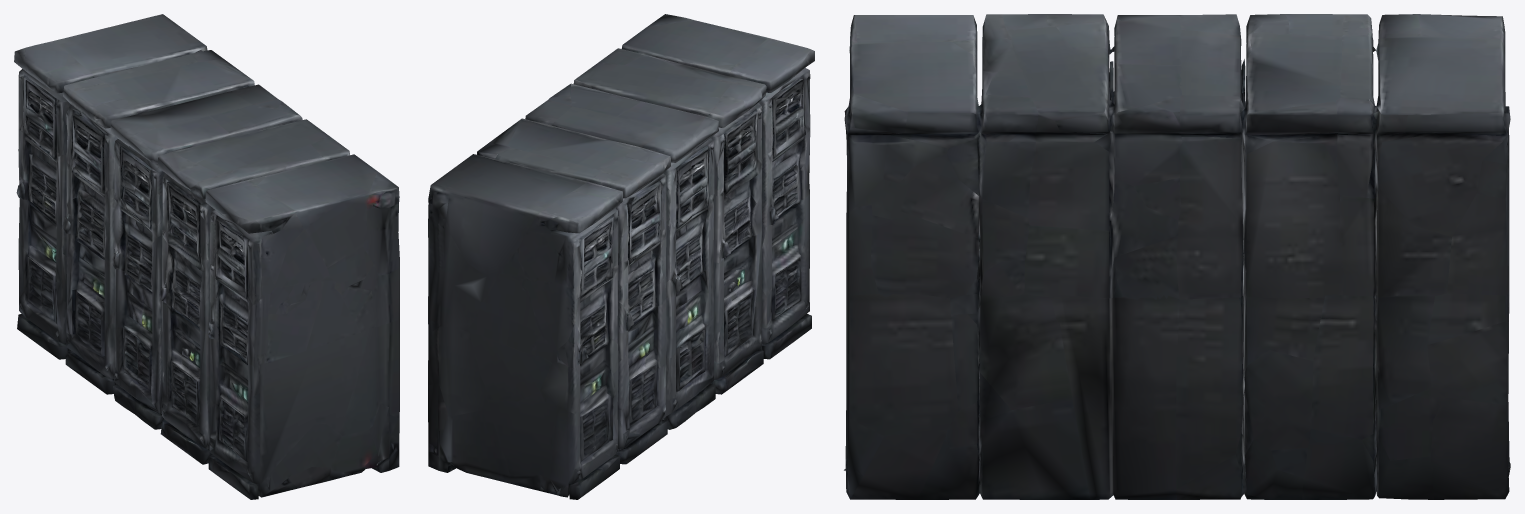
Rendered from server_rack.glb.
3 views of the same model, side by side, from view 1: azimuth 30°, elevation 25°; view 2: azimuth 150°, elevation 25°; view 3: azimuth 270°, elevation 25° (orthographic). The views are drawn at different scales.
Parts seen in each view (by area): view 1: tripo_node_16b92ba2-bf63-4ba5-acaf-4241999faca8; view 2: tripo_node_16b92ba2-bf63-4ba5-acaf-4241999faca8; view 3: tripo_node_16b92ba2-bf63-4ba5-acaf-4241999faca8.
Boxes of the visible parts, bbox=[...] form: tripo_node_16b92ba2-bf63-4ba5-acaf-4241999faca8: bbox=[14, 14, 399, 499]; tripo_node_16b92ba2-bf63-4ba5-acaf-4241999faca8: bbox=[428, 14, 814, 499]; tripo_node_16b92ba2-bf63-4ba5-acaf-4241999faca8: bbox=[844, 14, 1510, 499].
Bounding box in the file's own units: 0.3563 × 0.6247 × 0.976.
Materials: 1 (1 with a texture image).
